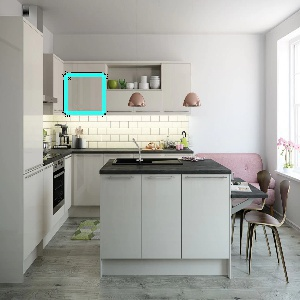square: (60, 70, 109, 118)
